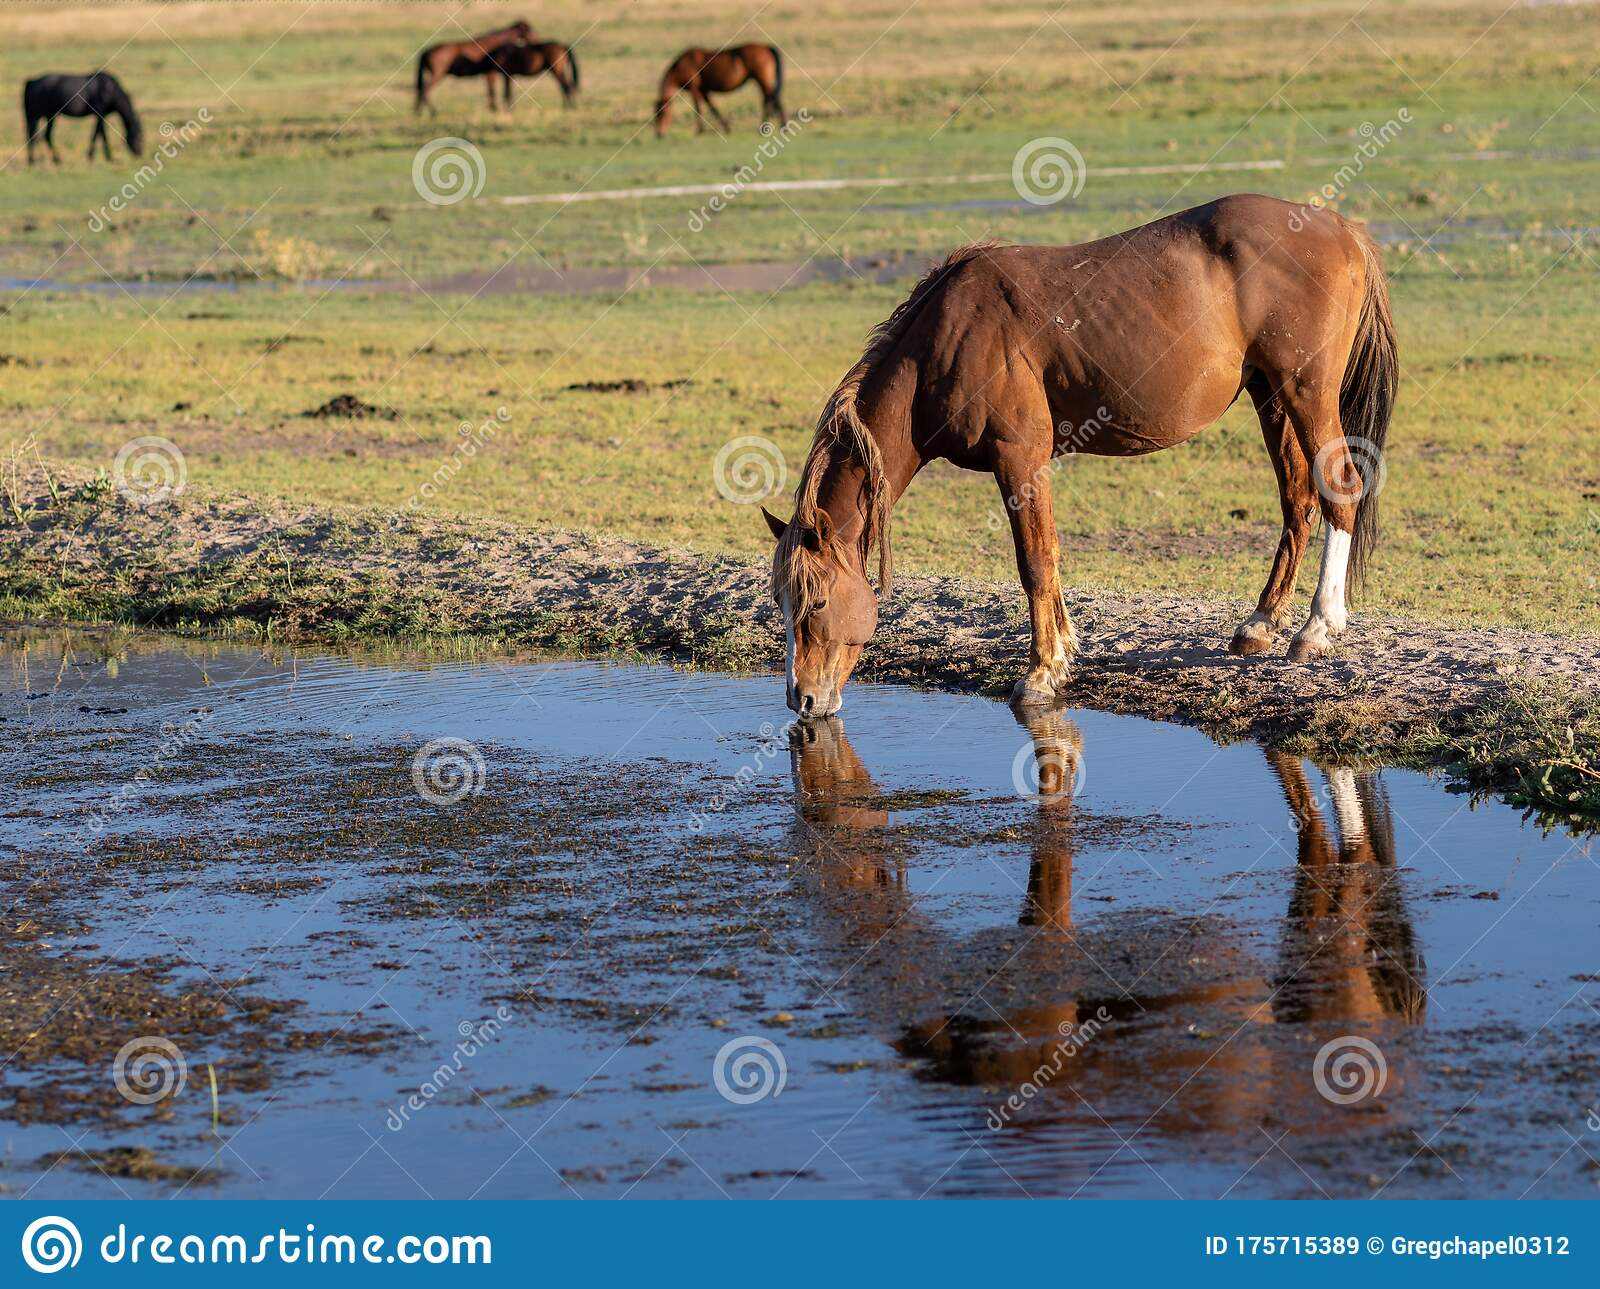Horse: (732, 201, 1457, 789), (7, 49, 213, 217), (643, 33, 811, 139), (371, 39, 518, 121), (476, 38, 597, 99)
